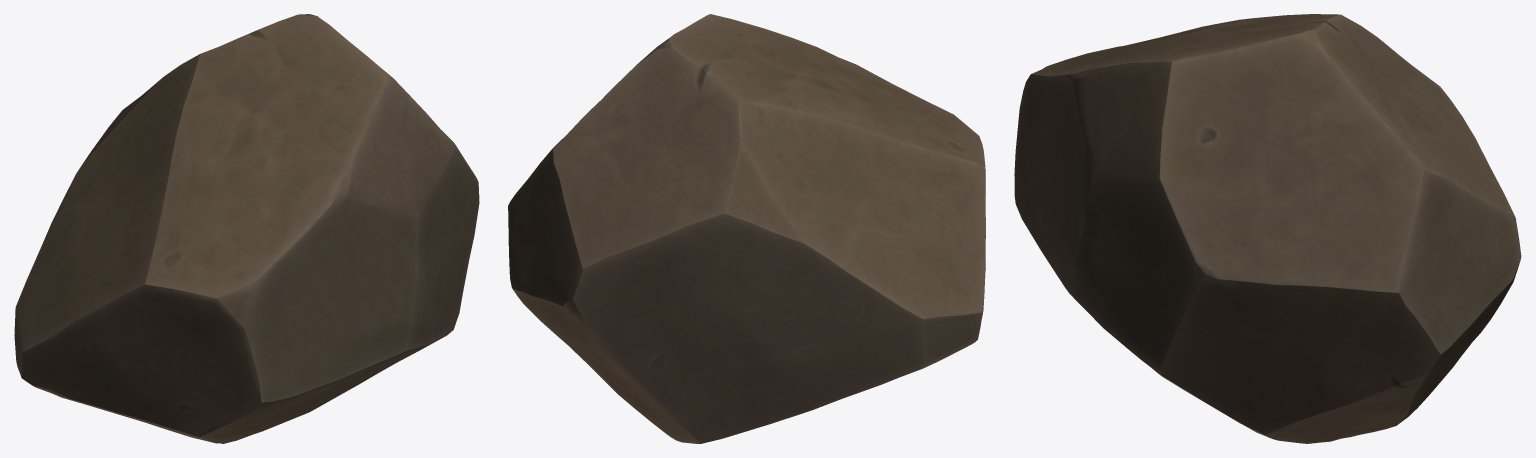
File: ST_Stone3.fbx
3 renders of one model, left to right at view 1: azimuth 30°, elevation 25°; view 2: azimuth 150°, elevation 25°; view 3: azimuth 270°, elevation 25°, orthographic. The views are drawn at different scales.
Visible parts, largest first — view 1: ST_Stone3; view 2: ST_Stone3; view 3: ST_Stone3.
Part boxes in pixels (x1,y1,x2,y2): ST_Stone3: (14, 14, 479, 443); ST_Stone3: (508, 14, 985, 443); ST_Stone3: (1014, 14, 1521, 443).
Size of the model in its own units: 142 by 121 by 131.
